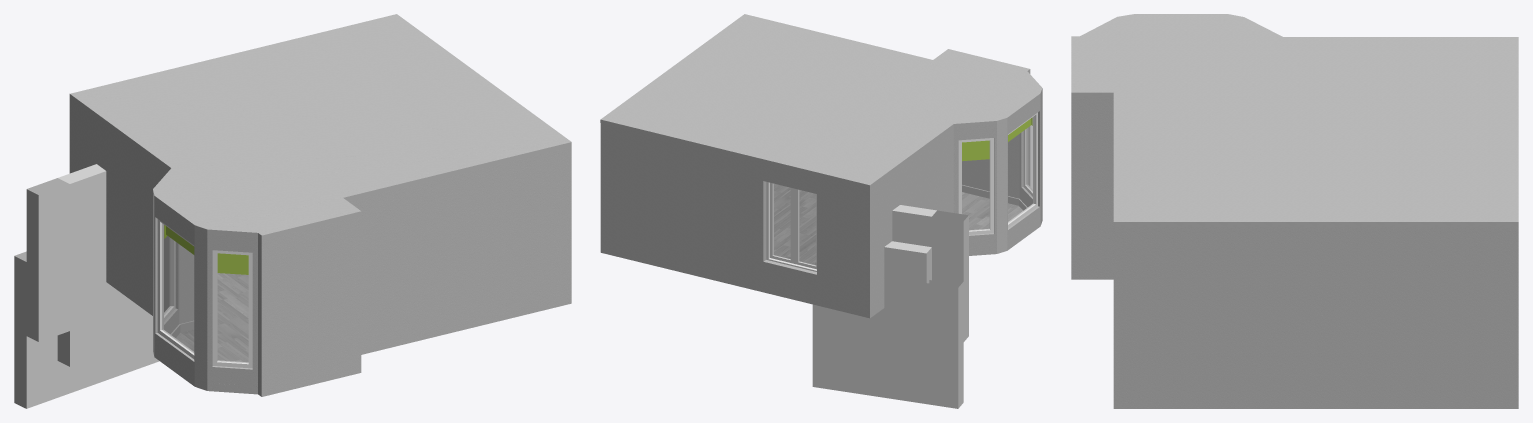
File: Living_Room.FBX
The picture shows the model from 3 angles, left to right: view 1: azimuth 30°, elevation 25°; view 2: azimuth 150°, elevation 25°; view 3: azimuth 270°, elevation 25°; orthographic projection. The views are drawn at different scales.
Parts seen in each view (by area): view 1: Wall_Exterior, Roof, SlidingWindow001, Glass_A, Wall_D, Floor, Wall_E, Rideaux; view 2: Roof, Wall_Exterior, SlidingWindow001, Glass_A, Wall_D, Floor, Window_Right, Window_Left, Rideaux, Wall_F, Window_Double; view 3: Roof, Wall_Exterior.
Boxes of the visible parts, <box> form: Wall_Exterior: <box>69,98,571,396</box>; Roof: <box>69,14,571,239</box>; SlidingWindow001: <box>14,164,159,408</box>; Glass_A: <box>162,223,248,362</box>; Wall_D: <box>155,217,252,369</box>; Floor: <box>176,273,248,362</box>; Wall_E: <box>179,244,194,323</box>; Rideaux: <box>164,225,248,274</box>; Roof: <box>600,14,1042,188</box>; Wall_Exterior: <box>600,73,1042,318</box>; SlidingWindow001: <box>812,205,968,408</box>; Glass_A: <box>962,116,1034,230</box>; Wall_D: <box>958,111,1039,235</box>; Floor: <box>774,183,1022,264</box>; Window_Right: <box>770,182,794,263</box>; Window_Left: <box>794,188,816,269</box>; Rideaux: <box>962,117,1032,160</box>; Wall_F: <box>763,181,816,274</box>; Window_Double: <box>766,182,816,271</box>; Roof: <box>1071,14,1518,226</box>; Wall_Exterior: <box>1071,97,1518,408</box>.
Bounding box in the file's own units: 11.55 × 7.3 × 9.46.
